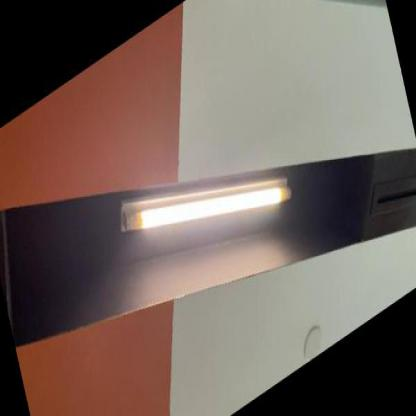light_on: (100, 83, 300, 316)
